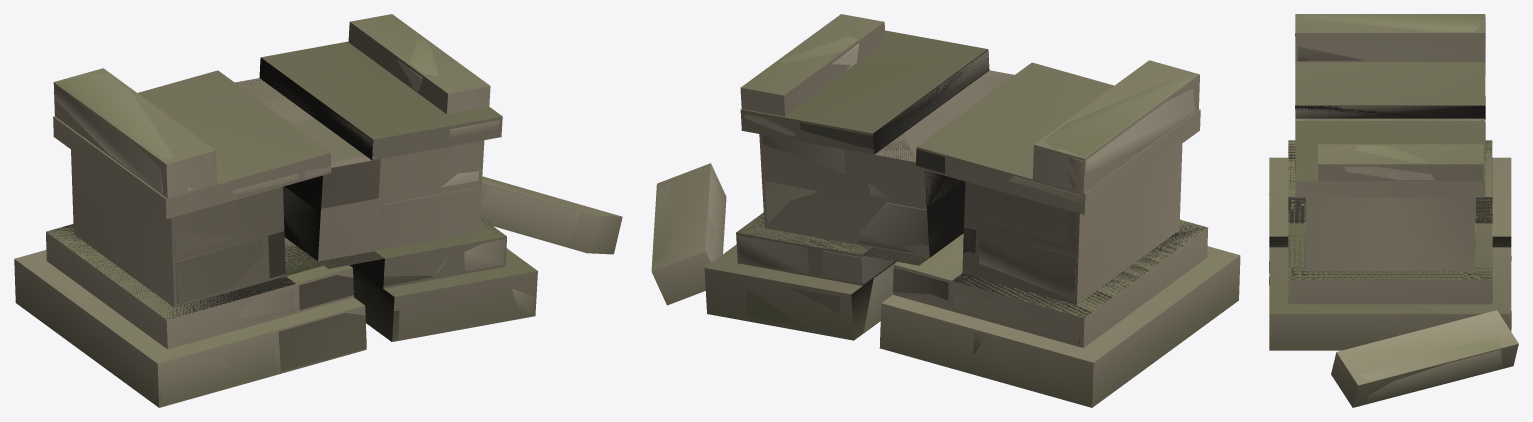
The model's file is agora_altar_cracked.glb.
3 views of the same model, side by side, from view 1: azimuth 30°, elevation 25°; view 2: azimuth 150°, elevation 25°; view 3: azimuth 270°, elevation 25° (orthographic). The views are drawn at different scales.
Parts seen in each view (by area): view 1: agora_altar_cracked_far, agora_altar_cracked; view 2: agora_altar_cracked_far, agora_altar_cracked; view 3: agora_altar_cracked_far, agora_altar_cracked.
Part boxes in pixels (bbox=[...]): agora_altar_cracked_far: bbox=[14, 14, 622, 407]; agora_altar_cracked: bbox=[55, 40, 608, 403]; agora_altar_cracked_far: bbox=[651, 14, 1240, 407]; agora_altar_cracked: bbox=[653, 36, 1194, 354]; agora_altar_cracked_far: bbox=[1269, 14, 1518, 407]; agora_altar_cracked: bbox=[1269, 14, 1511, 402].
Size of the model in its own units: 14.58 by 6.3 by 7.23.
